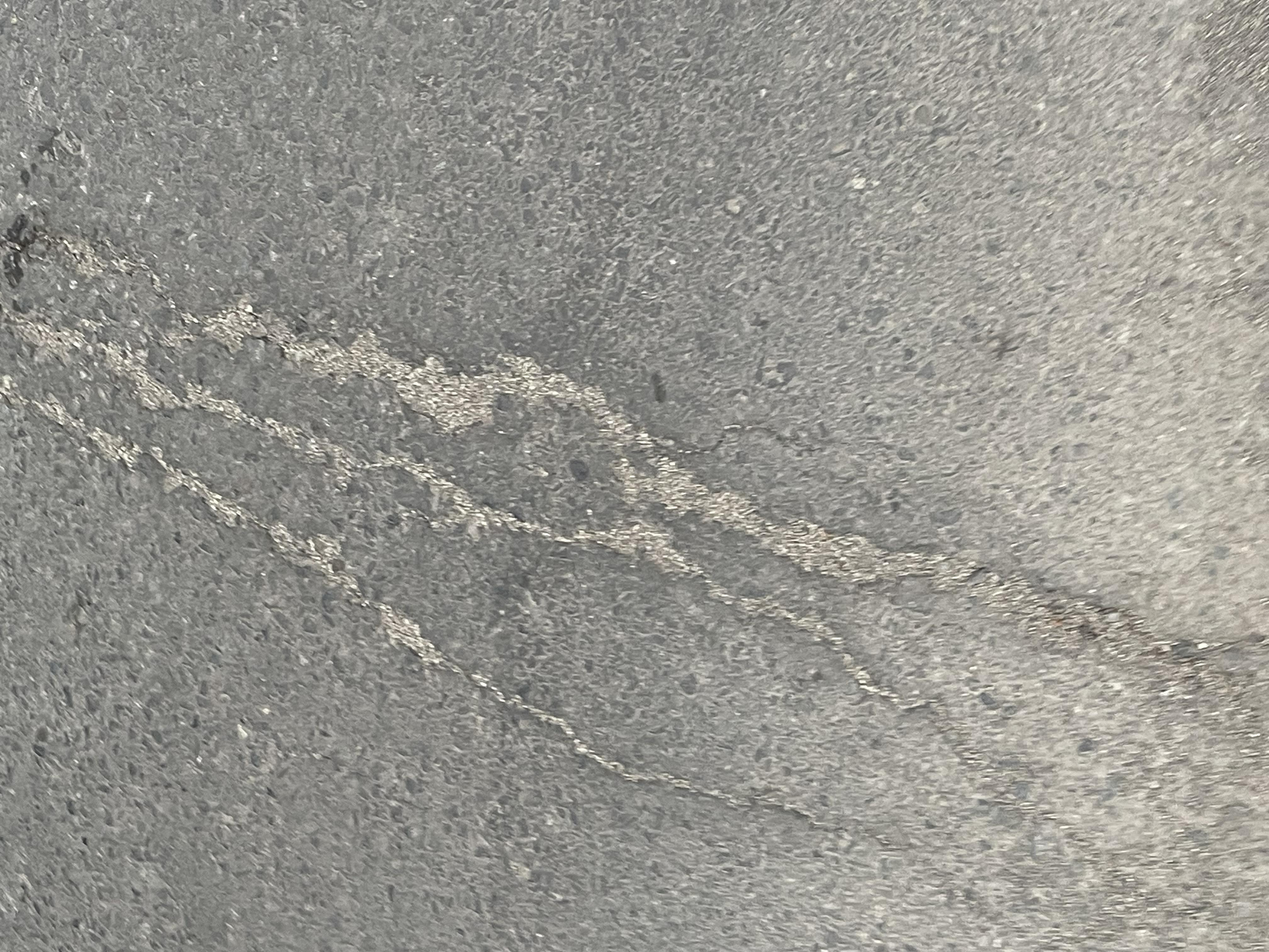PIEL DE COCODRILO: (0, 198, 1269, 952)
